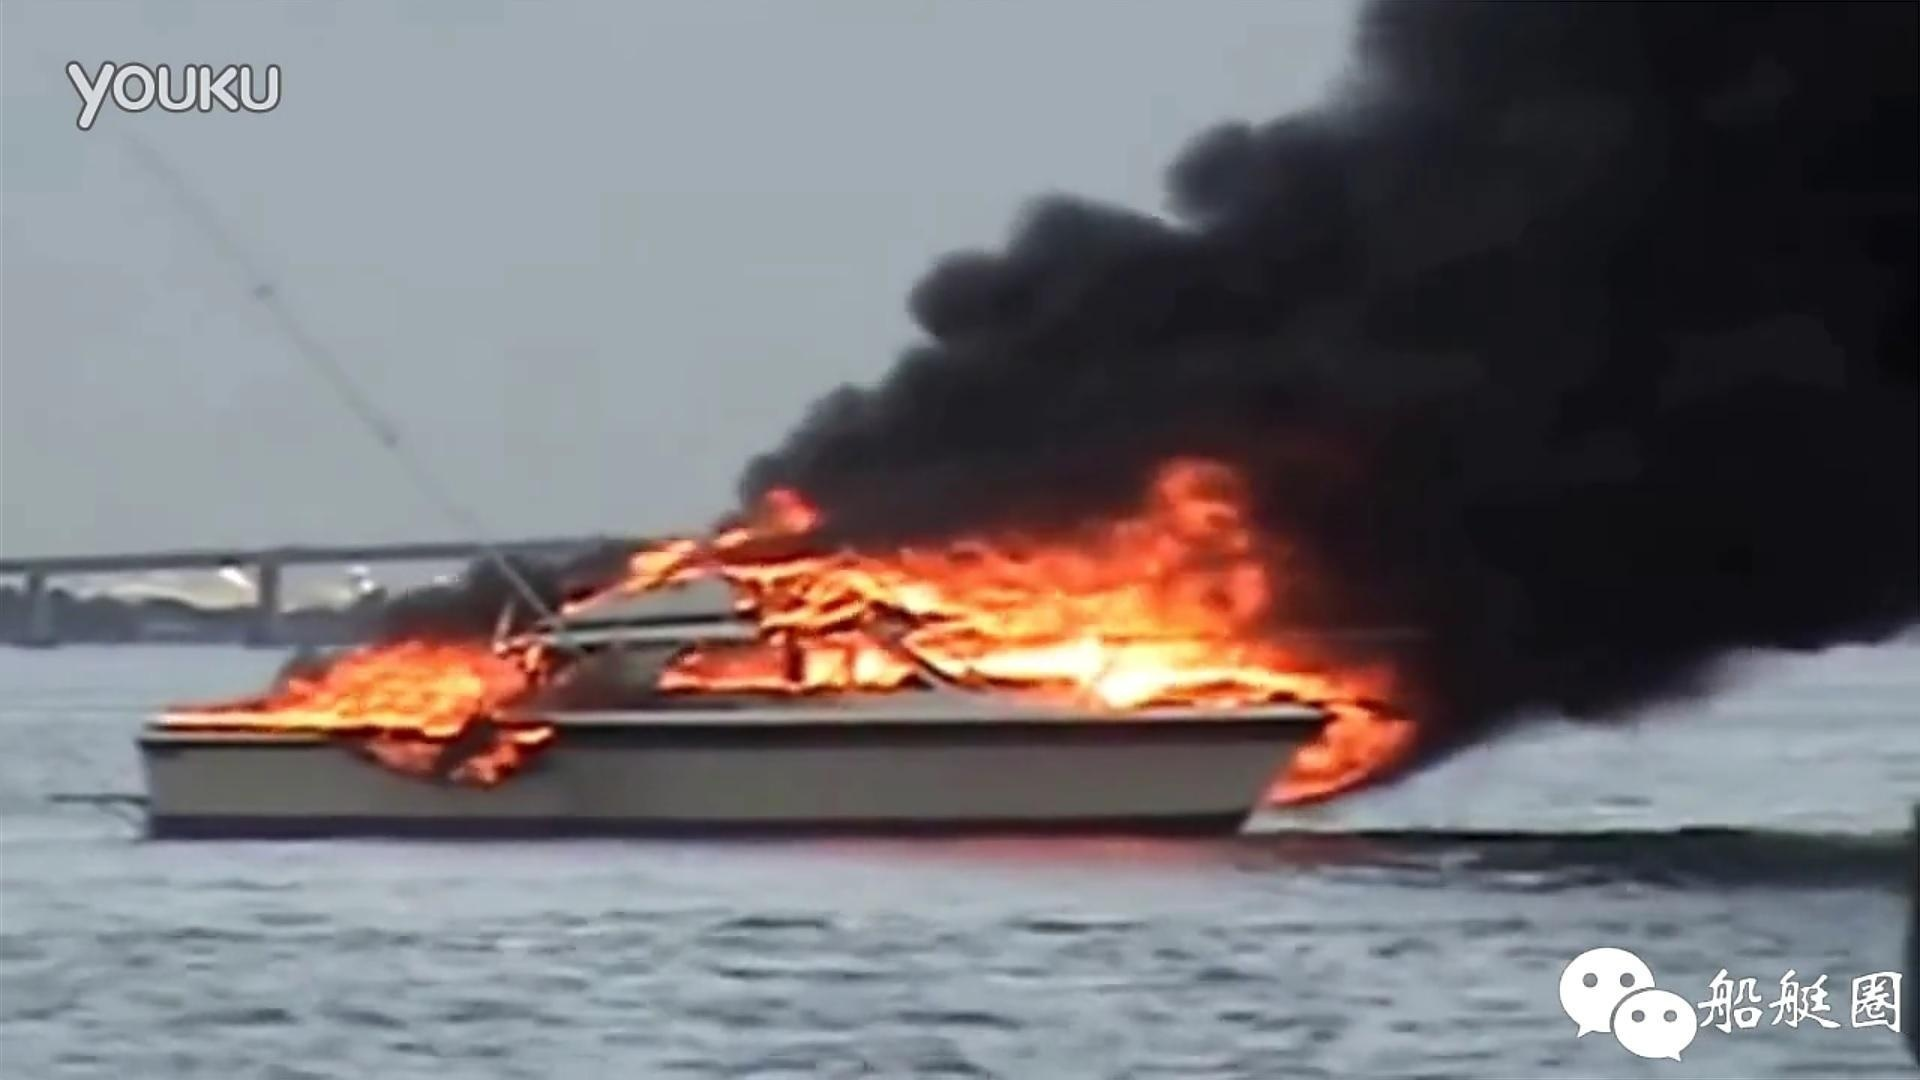fire: (597, 455, 1410, 769), (161, 605, 574, 765)
